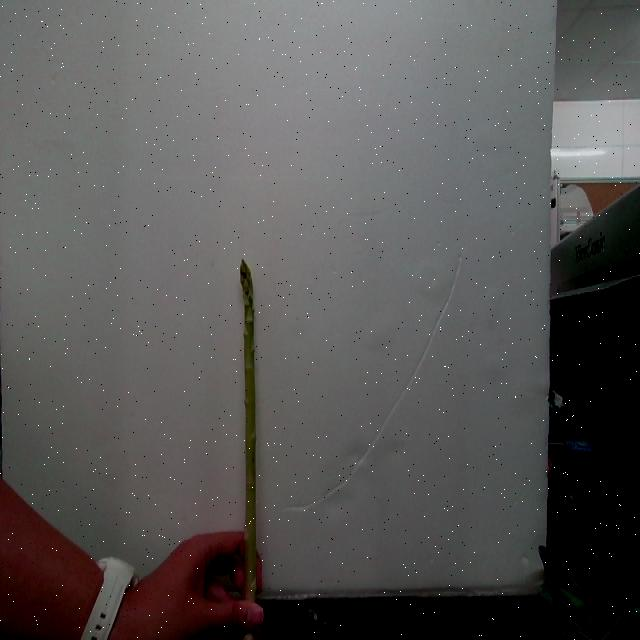aspargus: (241, 261, 262, 603)
